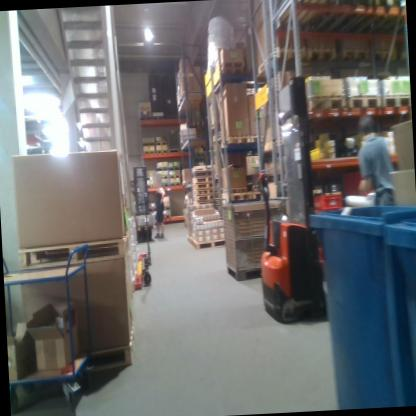pallet: (17, 230, 135, 271), (84, 321, 136, 376), (256, 42, 305, 79), (305, 93, 346, 112), (346, 93, 383, 109), (337, 45, 371, 62), (380, 93, 411, 110), (305, 46, 336, 62), (194, 236, 225, 251), (221, 132, 250, 148), (374, 0, 406, 9), (373, 50, 397, 62), (227, 191, 253, 202), (195, 193, 219, 204), (221, 58, 245, 68), (221, 65, 245, 74), (227, 185, 247, 194), (191, 170, 212, 178), (194, 182, 212, 190), (251, 133, 266, 142), (194, 189, 218, 194), (192, 177, 212, 183), (169, 173, 181, 179), (152, 115, 165, 120), (142, 141, 154, 146), (168, 166, 180, 171), (156, 166, 168, 171), (169, 181, 181, 186), (156, 149, 167, 154), (158, 174, 169, 179), (143, 150, 156, 154), (146, 175, 156, 180), (165, 115, 177, 119), (139, 116, 151, 120), (155, 141, 166, 145), (149, 206, 156, 212), (159, 183, 169, 187), (146, 184, 155, 188), (162, 206, 170, 210), (162, 214, 170, 218)
pallet_truck: (251, 68, 329, 326), (129, 186, 156, 293), (128, 154, 156, 241)
small_load_carrier: (310, 189, 342, 211)
stillage: (219, 193, 287, 281)
